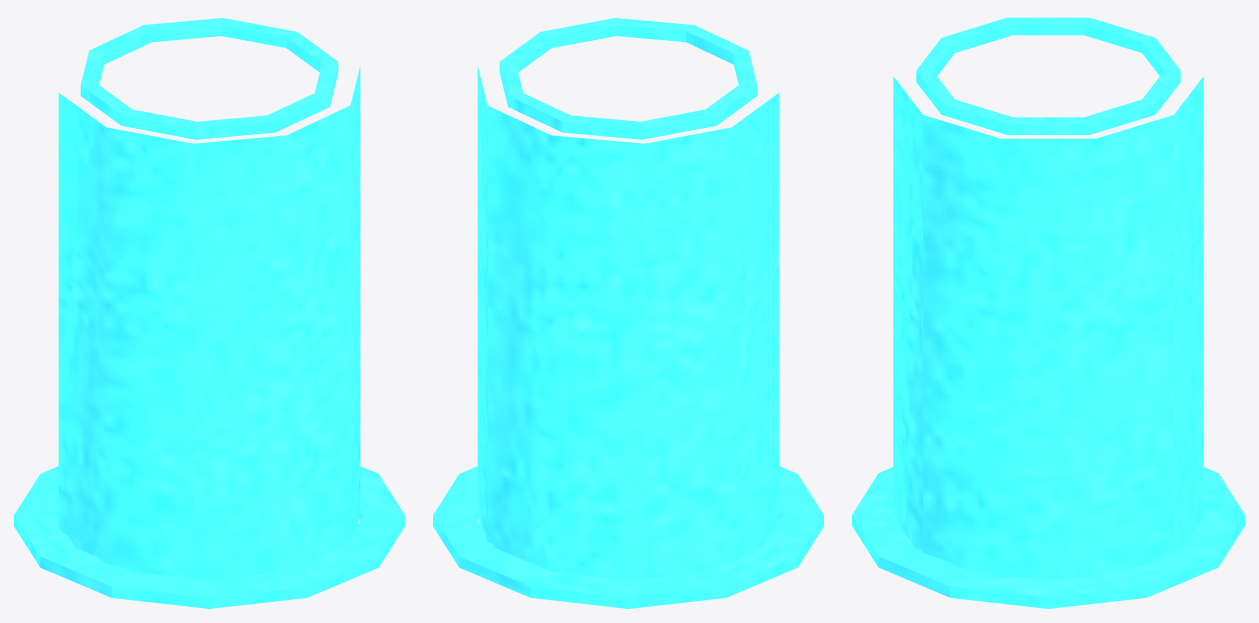
The model's file is fx_warp_w.glb.
3 renders of one model, left to right at view 1: azimuth 30°, elevation 25°; view 2: azimuth 150°, elevation 25°; view 3: azimuth 270°, elevation 25°, orthographic.
Visible parts, largest first — view 1: fx_warp_w; view 2: fx_warp_w; view 3: fx_warp_w.
Part boxes in pixels (x1,y1,x2,y2): fx_warp_w: (14,18,404,608); fx_warp_w: (433,18,823,608); fx_warp_w: (852,17,1244,608).
Bounding box in the file's own units: 1.9 × 2.43 × 1.9.
Materials: 1 (1 with a texture image).
